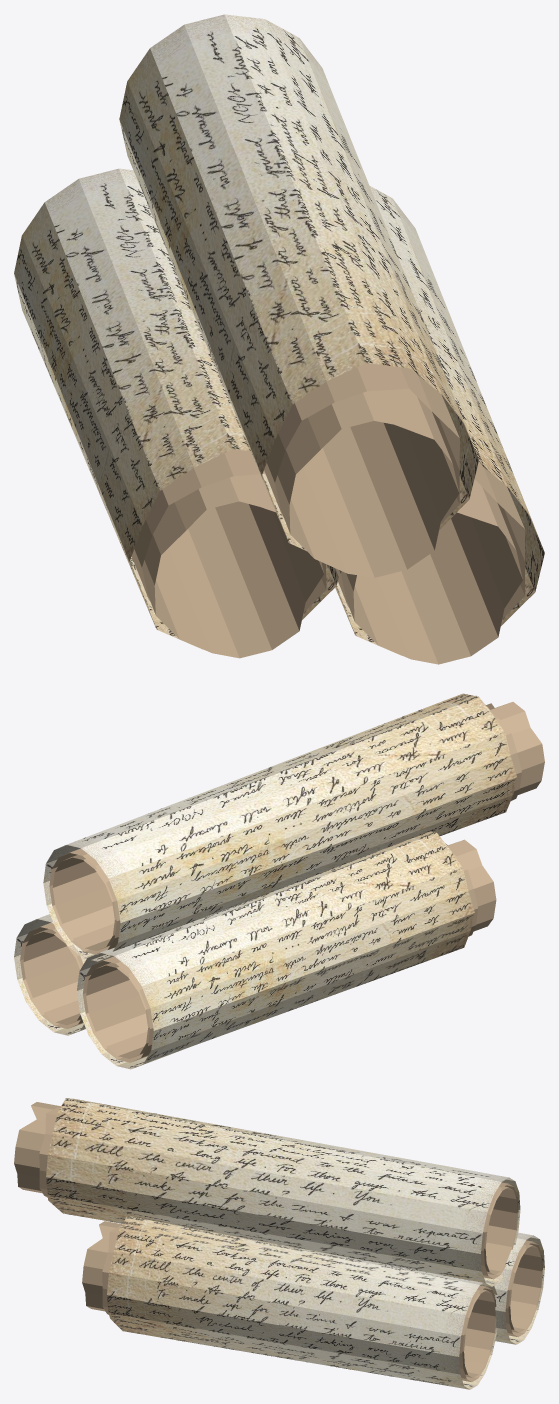
Rendered from Prop_Laboratorio_Pergamino.fbx.
3 views of the same model, one above another, from view 1: azimuth 30°, elevation 25°; view 2: azimuth 150°, elevation 25°; view 3: azimuth 270°, elevation 25° (orthographic). The views are drawn at different scales.
Visible parts, largest first — view 1: Circle.030; view 2: Circle.030; view 3: Circle.030.
Part boxes in pixels (bbox=[...]): Circle.030: bbox=[14, 14, 544, 664]; Circle.030: bbox=[14, 693, 544, 1069]; Circle.030: bbox=[14, 1098, 544, 1389].
Bounding box in the file's own units: 328 × 215 × 522.
